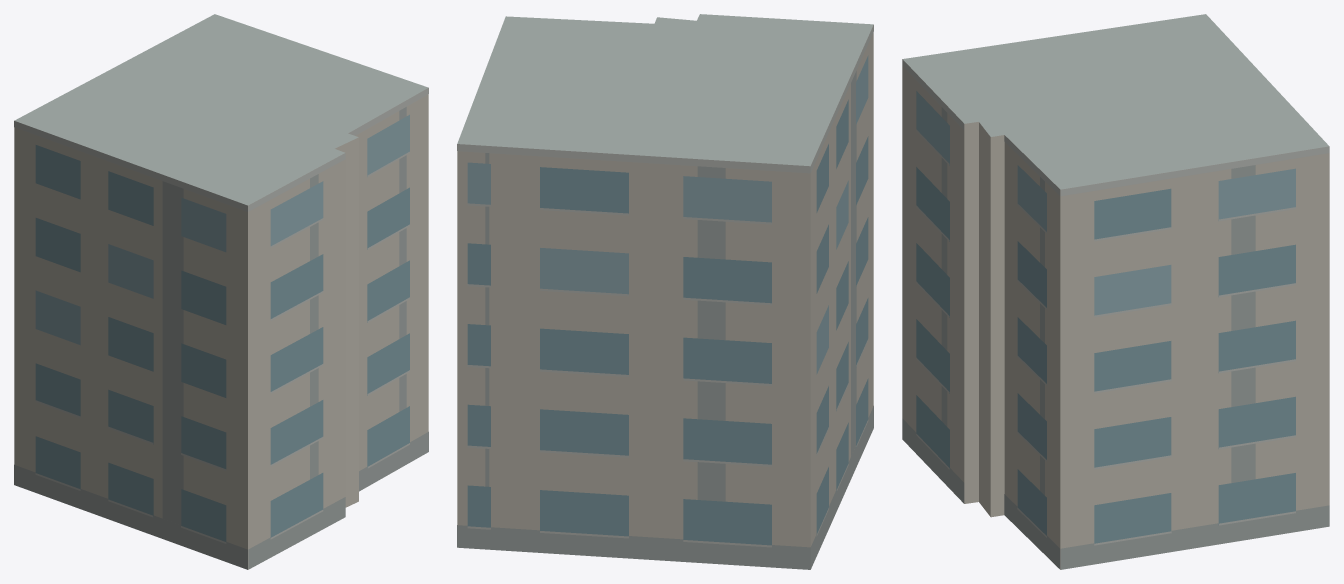
File: survey-upis-32851276.glb
3 views of the same model, side by side, from view 1: azimuth 30°, elevation 25°; view 2: azimuth 150°, elevation 25°; view 3: azimuth 270°, elevation 25° (orthographic). The views are drawn at different scales.
Visible parts, largest first — view 1: survey-upis-32851276.tmp; view 2: survey-upis-32851276.tmp; view 3: survey-upis-32851276.tmp.
Part boxes in pixels (box(x1,y1,x2,y2)): survey-upis-32851276.tmp: box(14, 14, 428, 569); survey-upis-32851276.tmp: box(457, 14, 873, 569); survey-upis-32851276.tmp: box(902, 14, 1329, 569).
Size of the model in its own units: 13.63 by 13.75 by 14.01.
